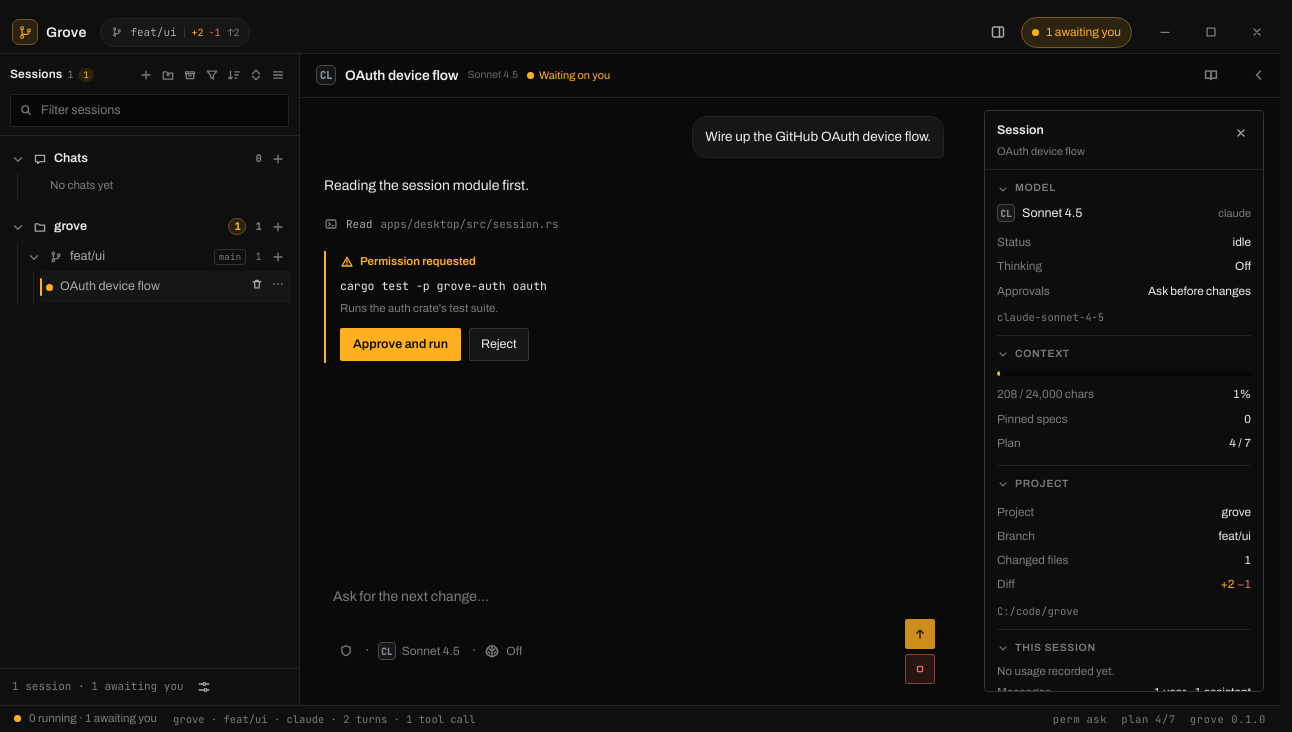
it: redesigned shell › toggles approval mode from the composer and keeps send icon-only
The width and height of the screenshot is (1292, 732).
Expected: the heading "OAuth device flow" is shown, [345,64,458,86]
Click the button named "Approval mode: ask before changes. Switch to full access" at (346, 651), box [333,638,359,664]
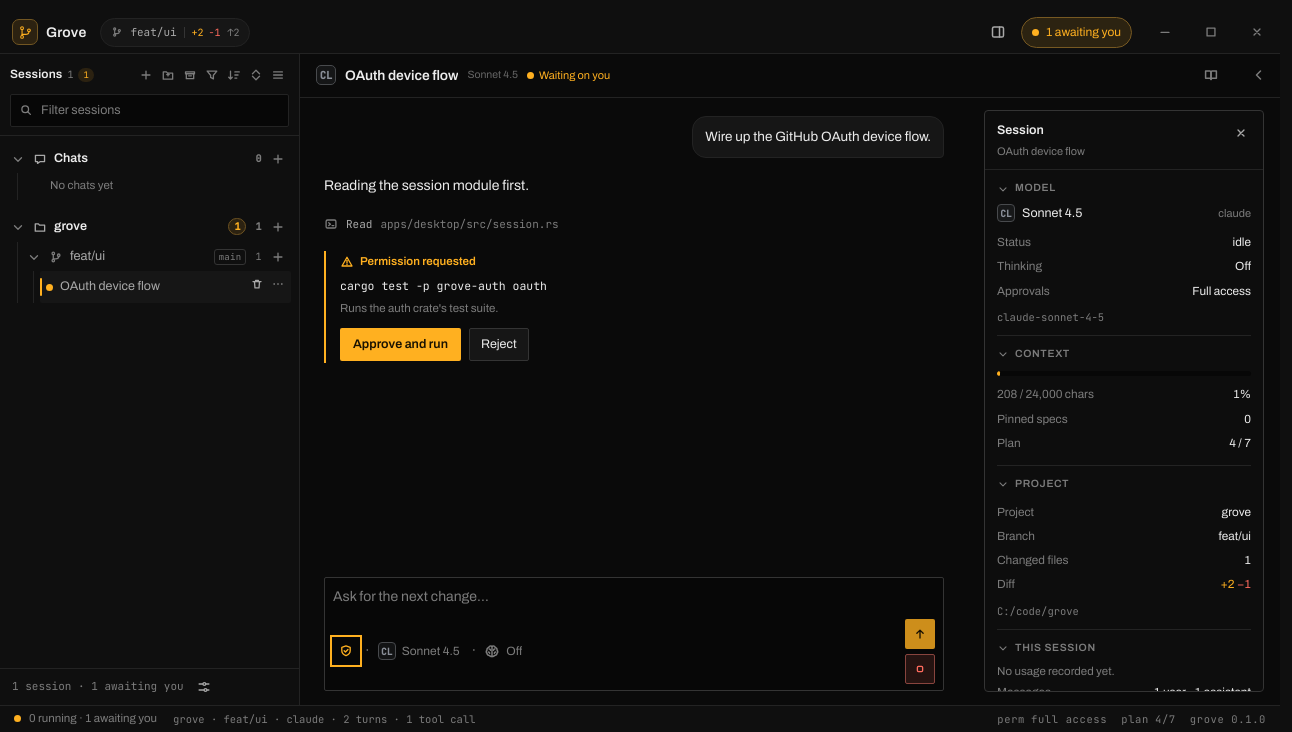
Expected: the button titled "Send" is empty, [905,619,935,649]
Expected: the button named "Approval mode: full access. Switch to ask" is shown, [333,638,359,664]
Expected: the text "full access" is shown, [1031,711,1107,727]
